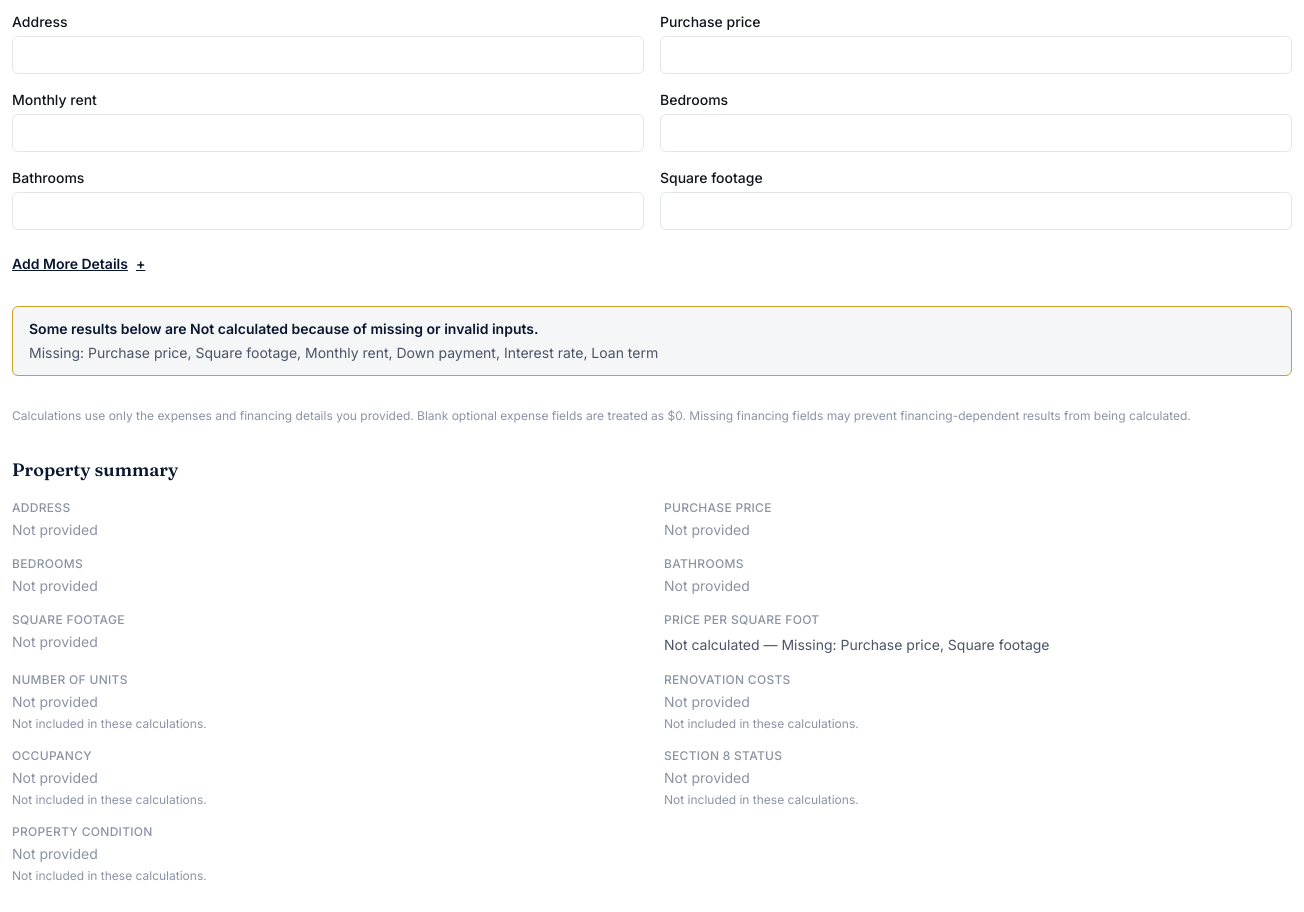
Test: ManualDealEntryForm — bedrooms must be a whole number › rejects 1.5 bedrooms with an accessible error and preserves the entered value
Type "1.5" into the number field labelled "Bedrooms" at point(976, 133), box [660, 114, 1292, 152]
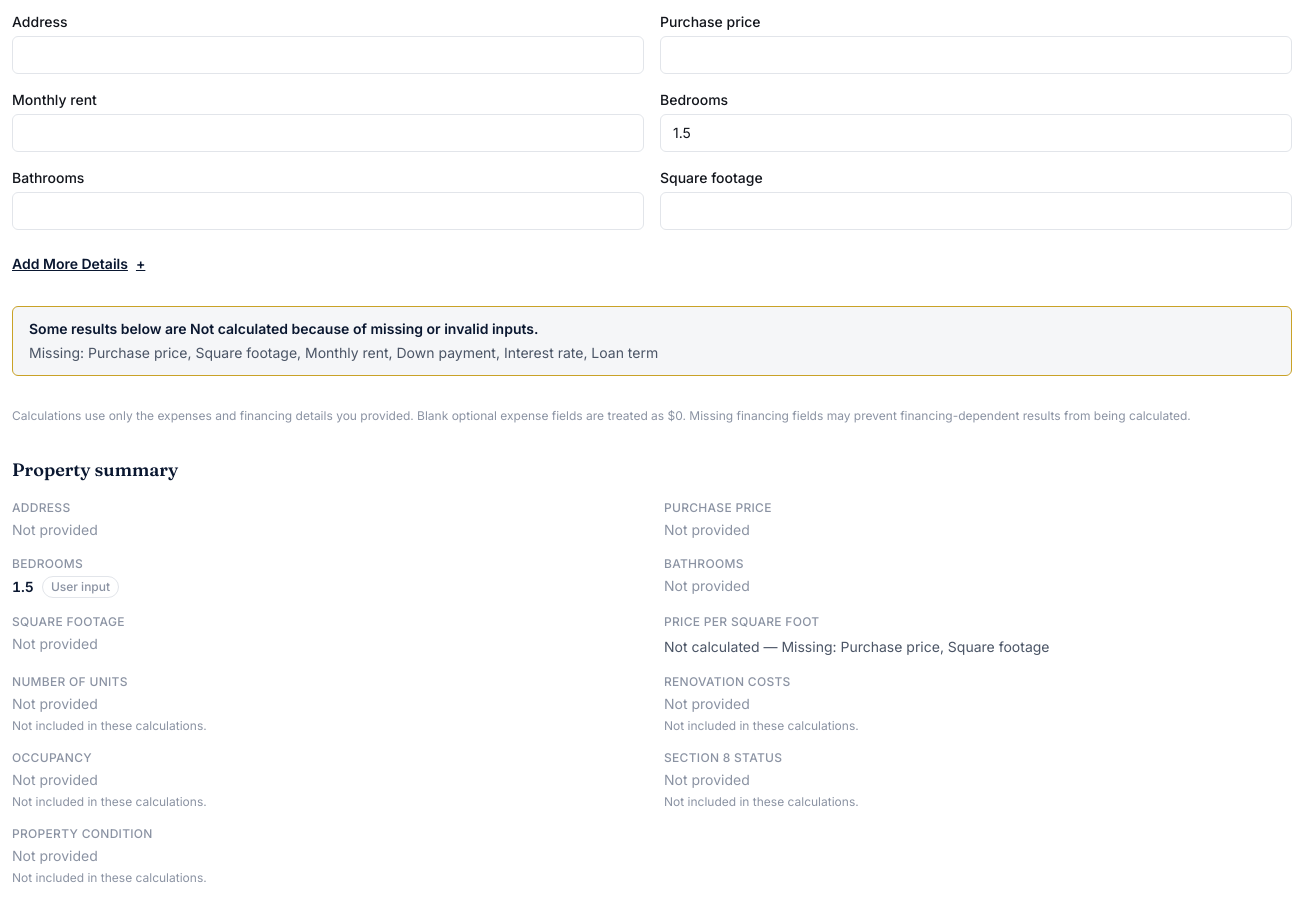
Leave the number field labelled "Bedrooms", box [660, 114, 1292, 152]
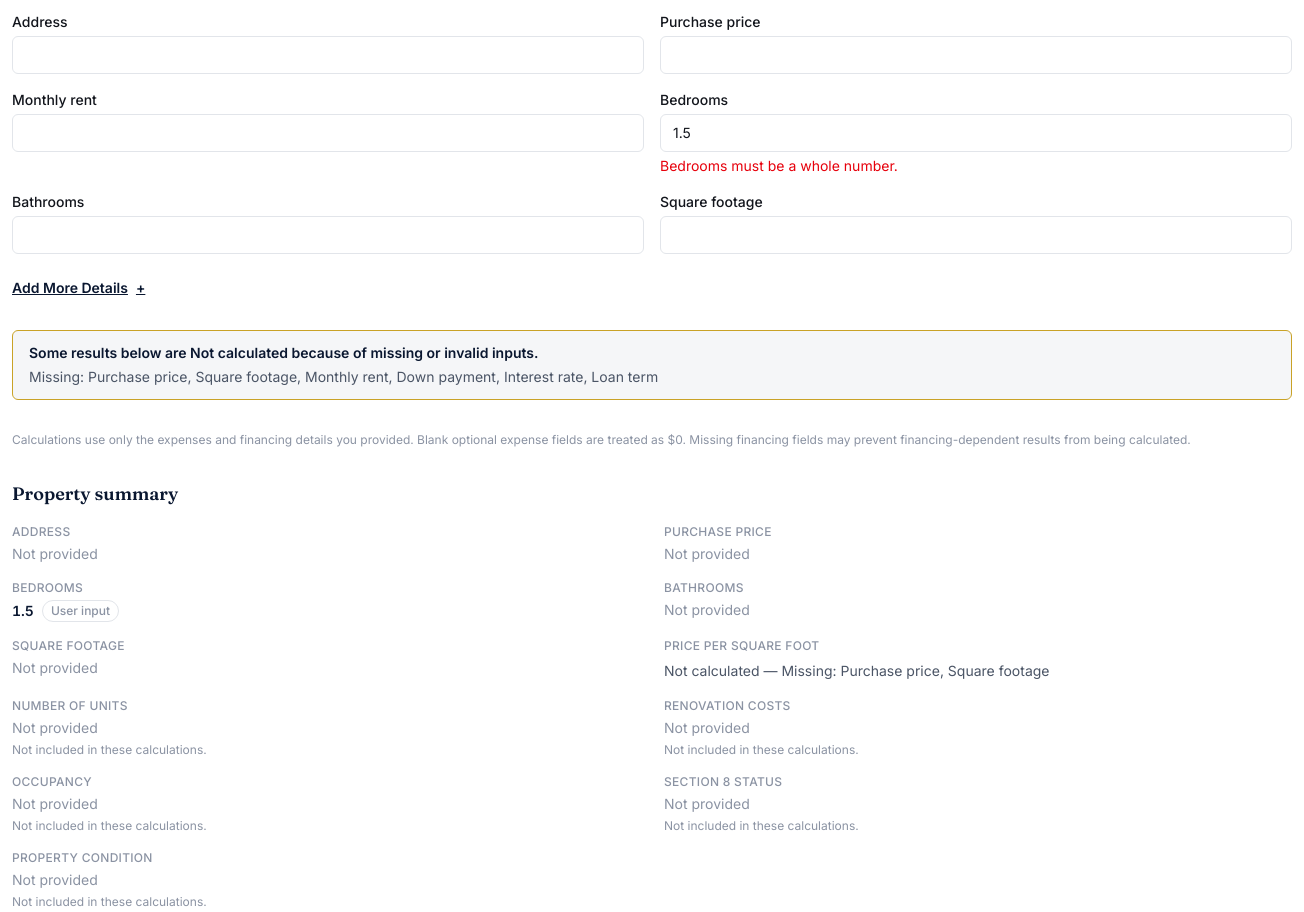
Result: the text "Bedrooms must be a whole number." is shown at [660, 157, 898, 174]
